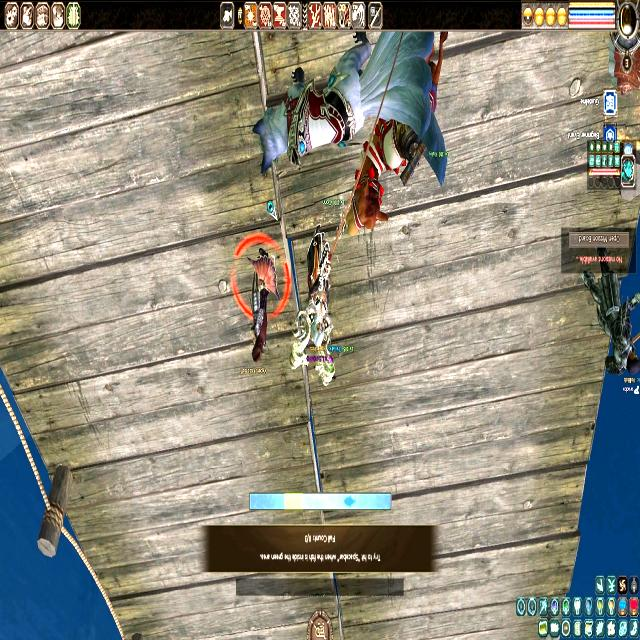fishes: (344, 495, 357, 509)
